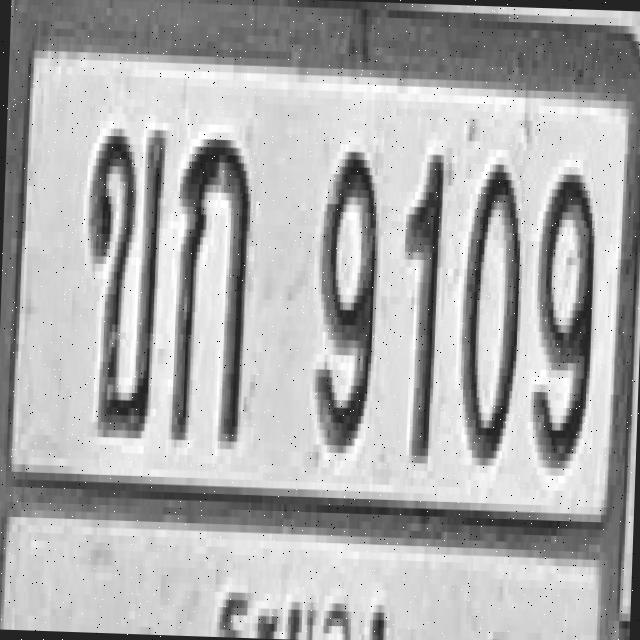0: (458, 156, 522, 458)
1: (398, 150, 444, 460)
10GorGai: (169, 130, 251, 442)
11KhorKhai: (80, 120, 166, 431)
9: (313, 143, 381, 446), (530, 166, 598, 461)
